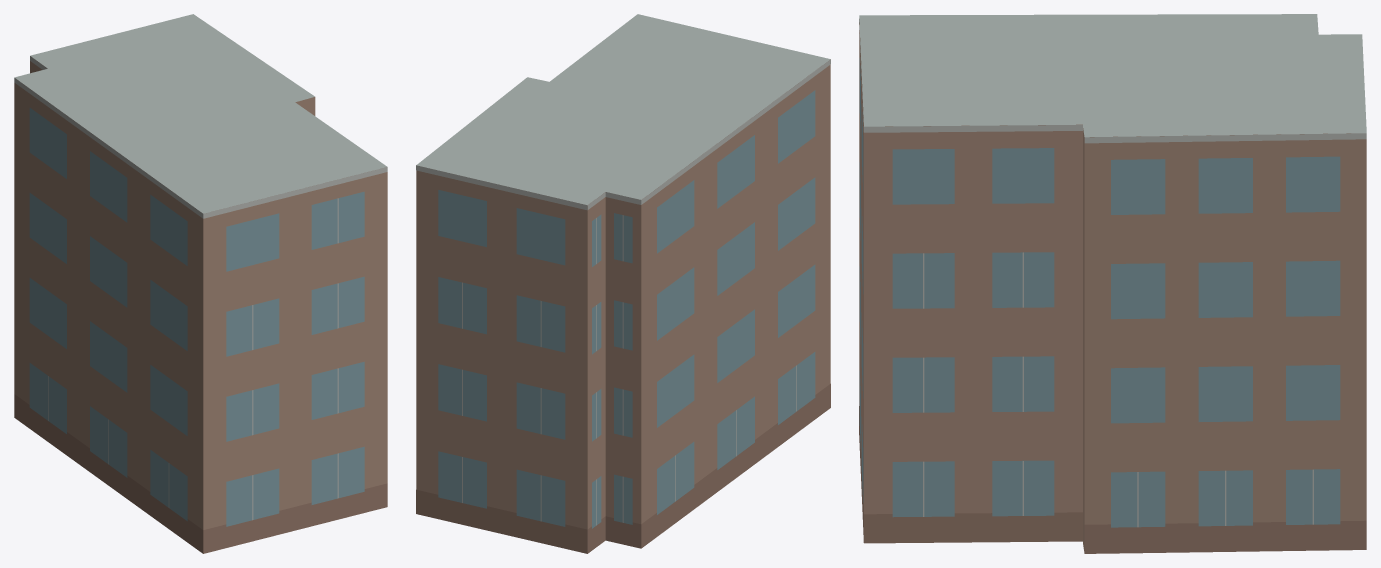
The model's file is survey-upis-32775780.glb.
3 views of the same model, side by side, from view 1: azimuth 30°, elevation 25°; view 2: azimuth 150°, elevation 25°; view 3: azimuth 270°, elevation 25° (orthographic). The views are drawn at different scales.
Parts seen in each view (by area): view 1: survey-upis-32775780.tmp; view 2: survey-upis-32775780.tmp; view 3: survey-upis-32775780.tmp.
Boxes of the visible parts, bbox=[...] form: survey-upis-32775780.tmp: bbox=[14, 14, 387, 553]; survey-upis-32775780.tmp: bbox=[416, 14, 830, 553]; survey-upis-32775780.tmp: bbox=[859, 14, 1366, 553].
Bounding box in the file's own units: 10.47 × 16.5 × 18.23.
